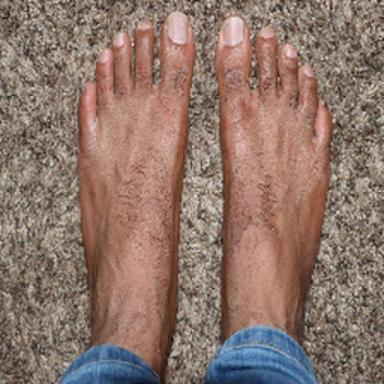normal skin: (79, 12, 195, 381), (217, 15, 331, 340)
